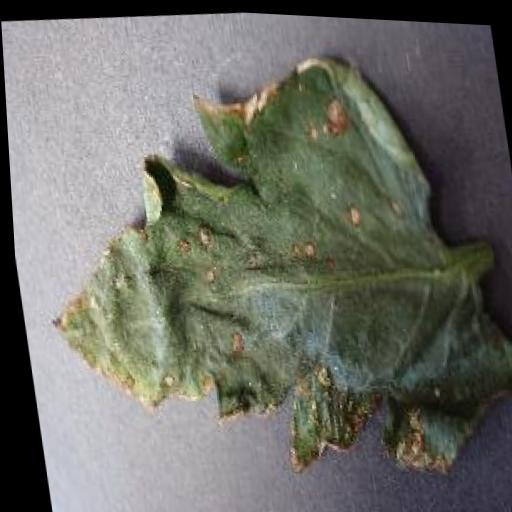Bacterial Spot: (10, 23, 512, 512)
